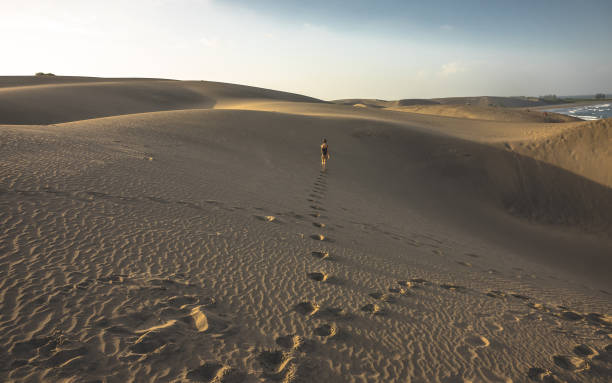human_footprint: (379, 272, 611, 381), (95, 273, 239, 364), (485, 290, 611, 381), (353, 267, 551, 324), (129, 306, 235, 355), (485, 290, 611, 328), (527, 344, 611, 381), (256, 335, 318, 381), (37, 340, 96, 372), (190, 306, 237, 337), (257, 350, 293, 379), (455, 334, 489, 362), (186, 361, 231, 381), (308, 175, 326, 217), (275, 334, 316, 352), (314, 323, 349, 341), (553, 355, 588, 371), (316, 306, 354, 320), (527, 367, 558, 382), (307, 271, 342, 284), (275, 334, 304, 349), (190, 307, 208, 331), (294, 301, 319, 315), (585, 313, 611, 326), (573, 344, 598, 357), (465, 334, 489, 347), (314, 323, 337, 336), (368, 292, 396, 302), (361, 303, 386, 314), (559, 310, 582, 320), (484, 321, 503, 331), (307, 272, 328, 281), (388, 286, 409, 295), (439, 283, 466, 290), (527, 302, 550, 310), (255, 215, 279, 222), (310, 189, 325, 199), (509, 293, 530, 300), (311, 251, 329, 259), (409, 278, 429, 285), (287, 211, 304, 219), (486, 290, 505, 297), (312, 183, 326, 192), (397, 280, 412, 288), (310, 234, 330, 240), (313, 179, 326, 188), (314, 182, 326, 191), (310, 205, 325, 211), (457, 261, 471, 266), (312, 222, 326, 227), (432, 249, 443, 255), (465, 253, 479, 257), (309, 212, 320, 217), (309, 193, 320, 198), (307, 198, 320, 202)
